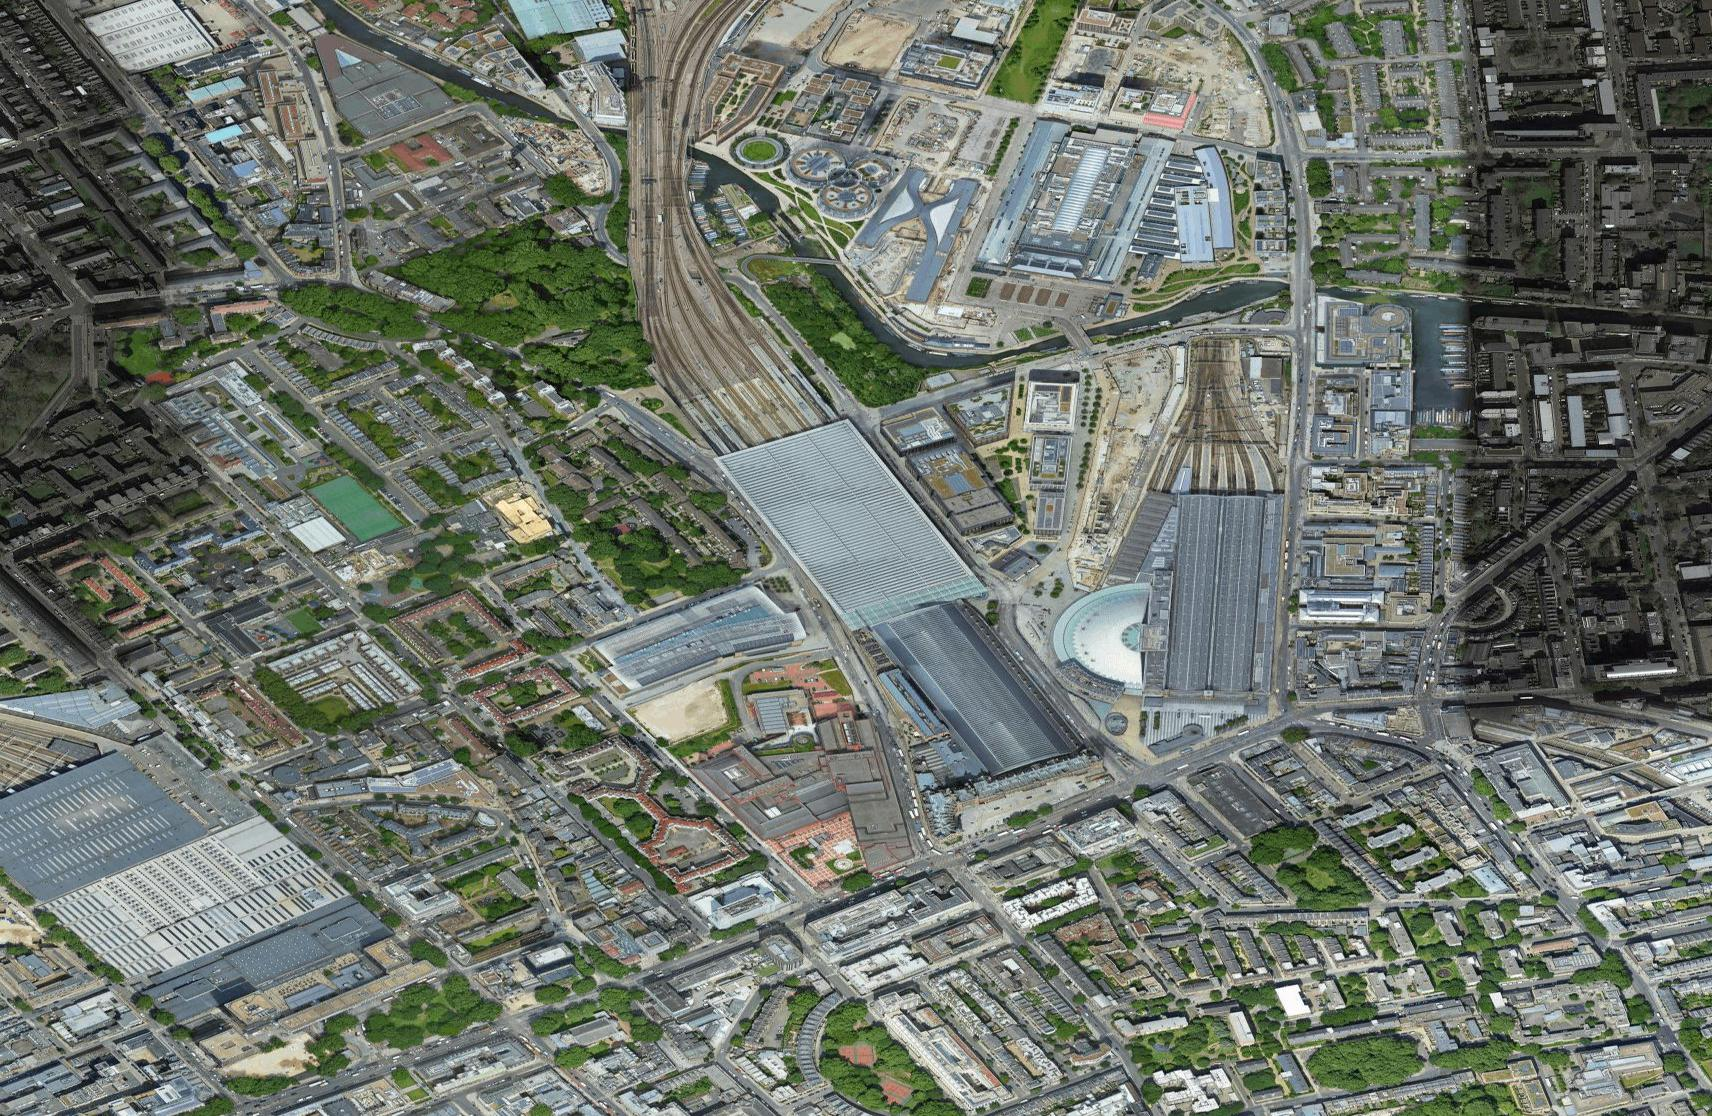train_station: (15, 751, 339, 1002), (695, 389, 980, 653)
